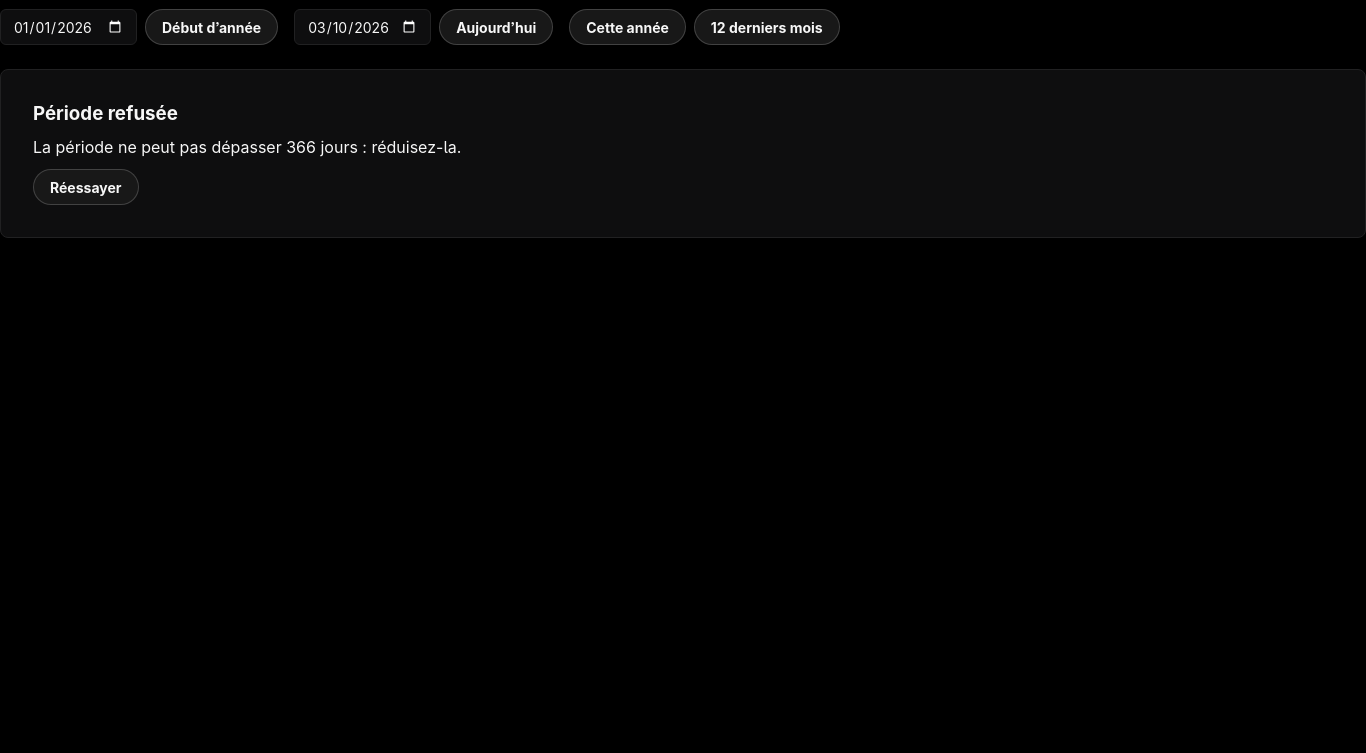
CashTab › explains a refused range and a failed read with a retry
Expected: the text "La période ne peut pas dépasser 366 jours : réduisez-la." is shown, [33,137,461,157]
Step 1. Click the button "12 derniers mois" → click(767, 27), box [694,9,840,45]
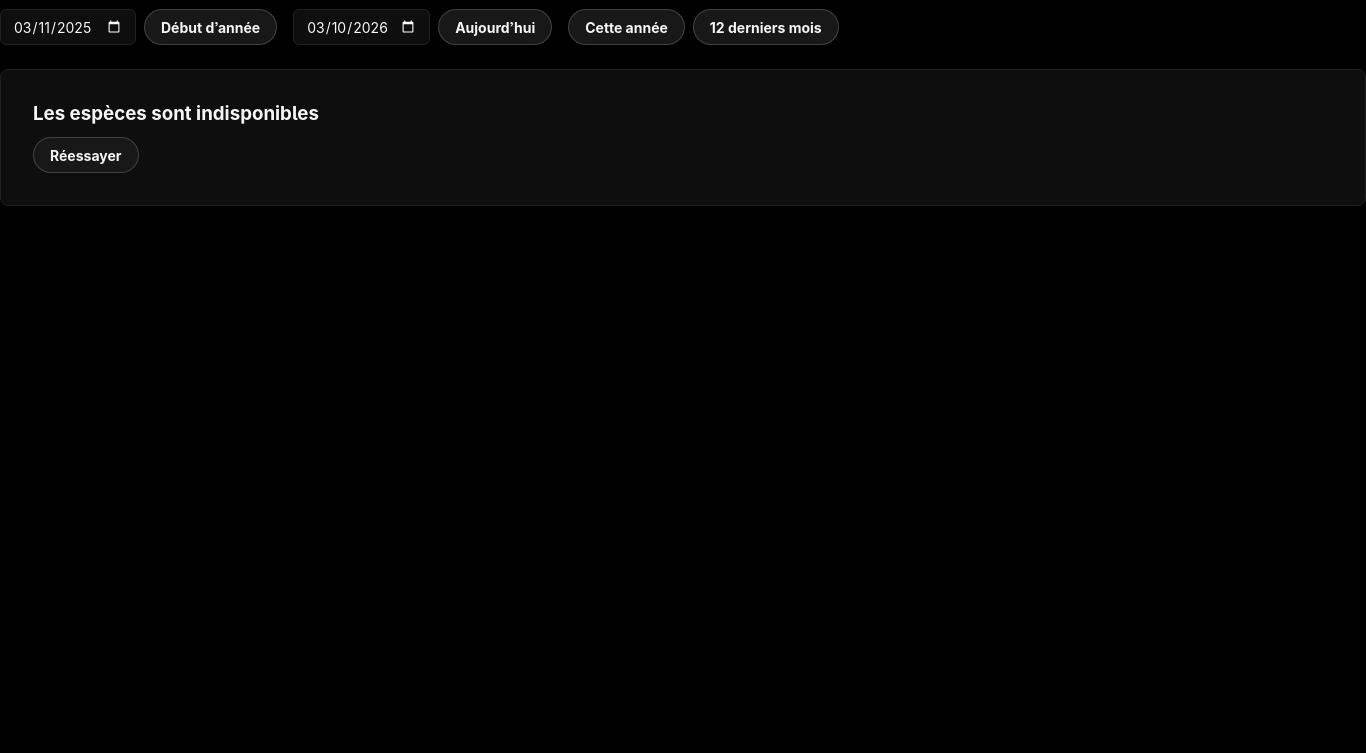
Now the heading "Les espèces sont indisponibles" is shown, box [33,102,319,125]
Step 2. Click the button "Réessayer" → click(86, 155), box [33,137,138,173]
(page scrolled)
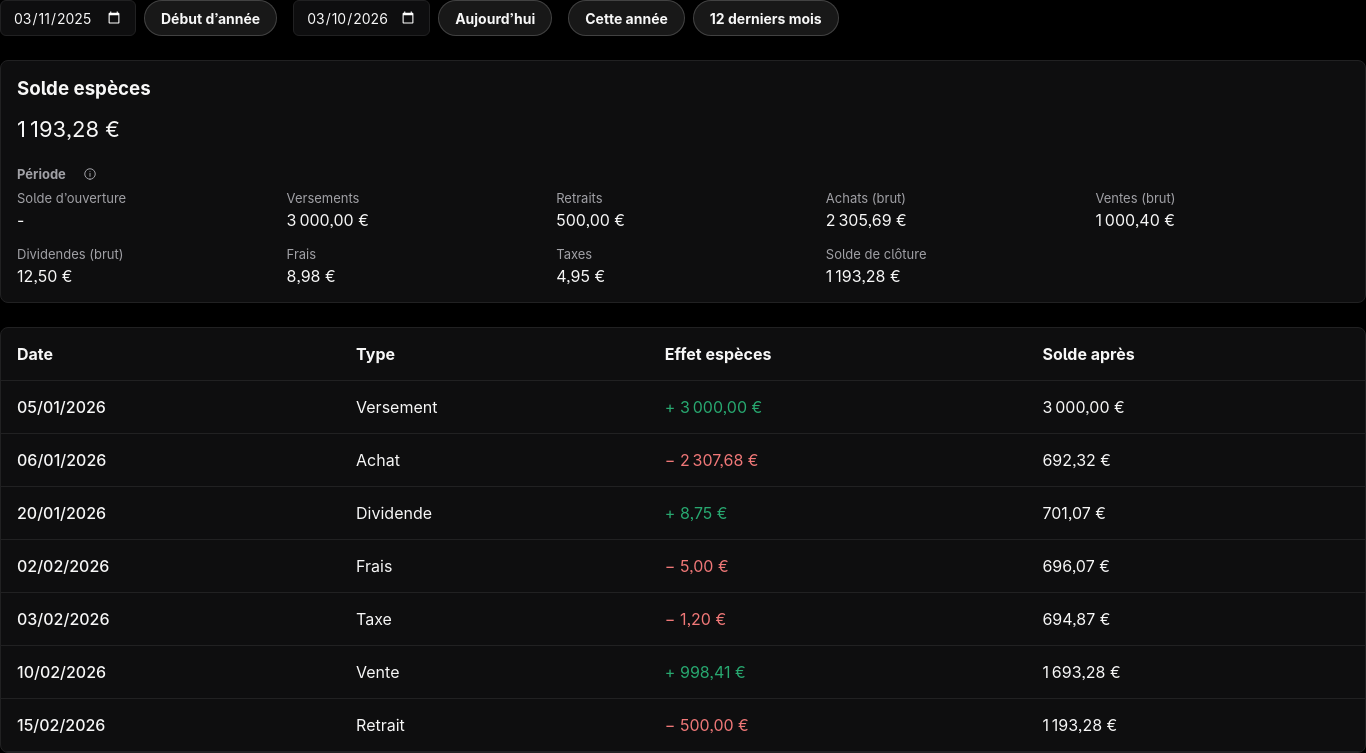
Now the table named "Mouvements d’espèces" is shown, box [1,328,1365,752]
